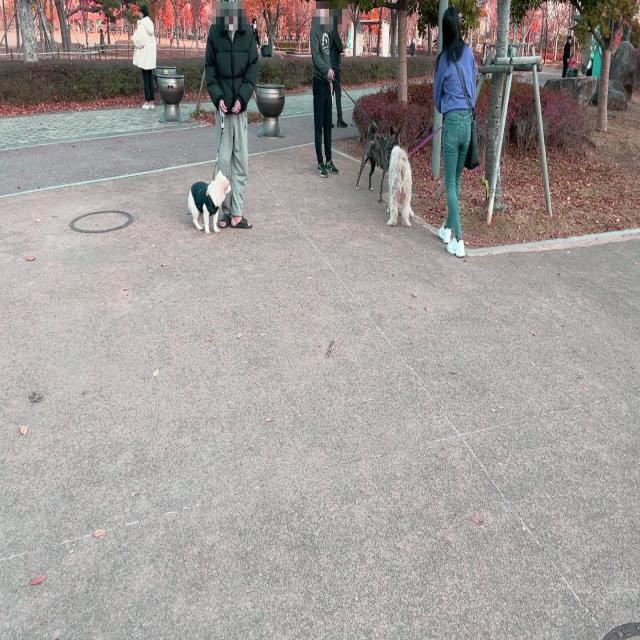Leashed_Dog: (316, 57, 403, 208), (386, 100, 466, 228), (186, 95, 248, 236)
